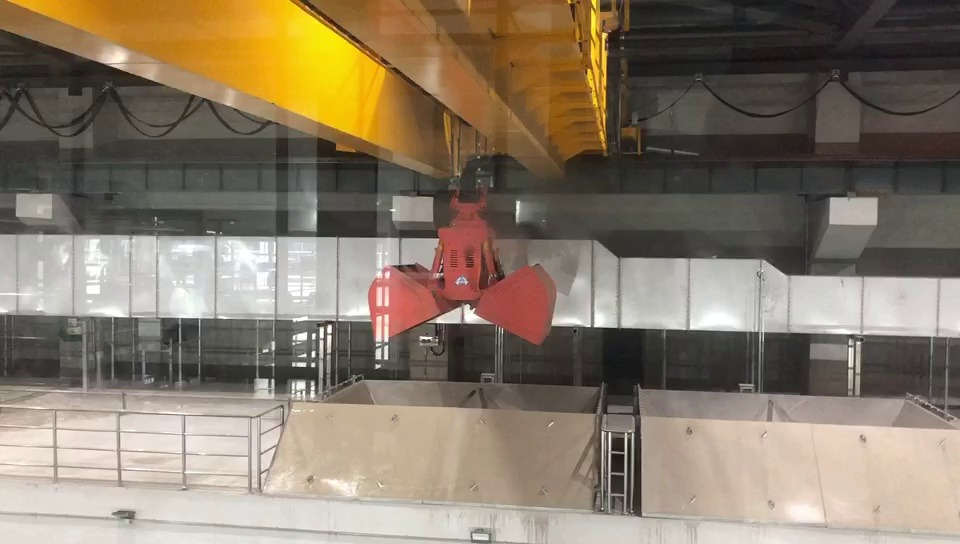grab: (357, 183, 559, 350)
